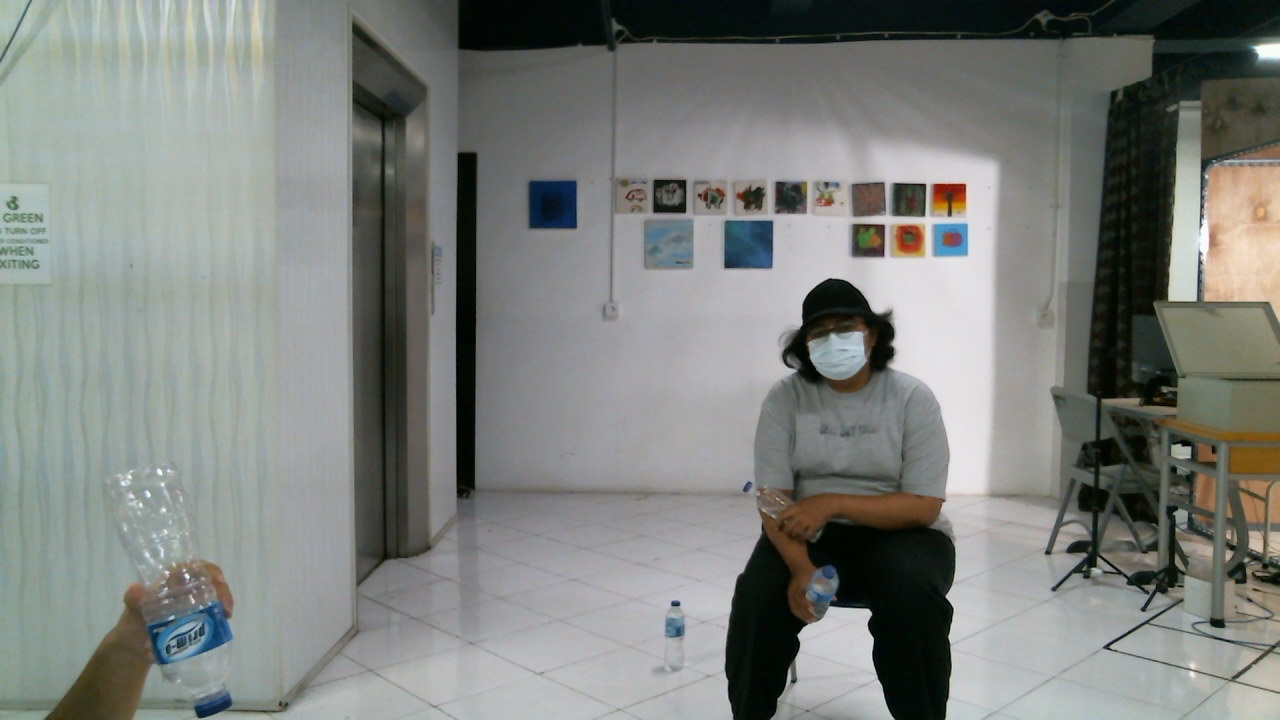Bottle: (110, 458, 234, 715)
